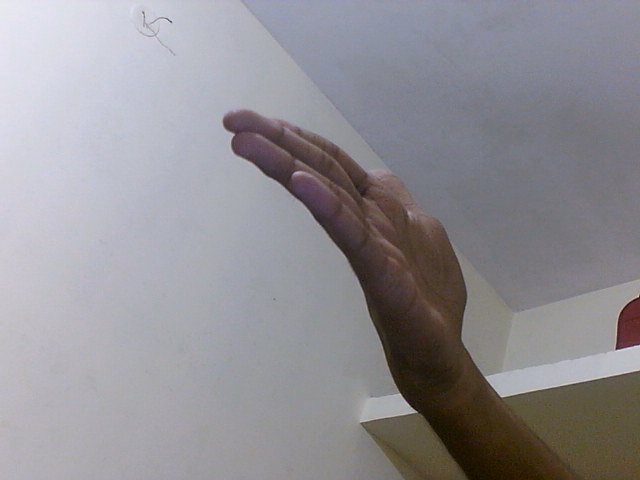hand: (224, 109, 472, 400)
